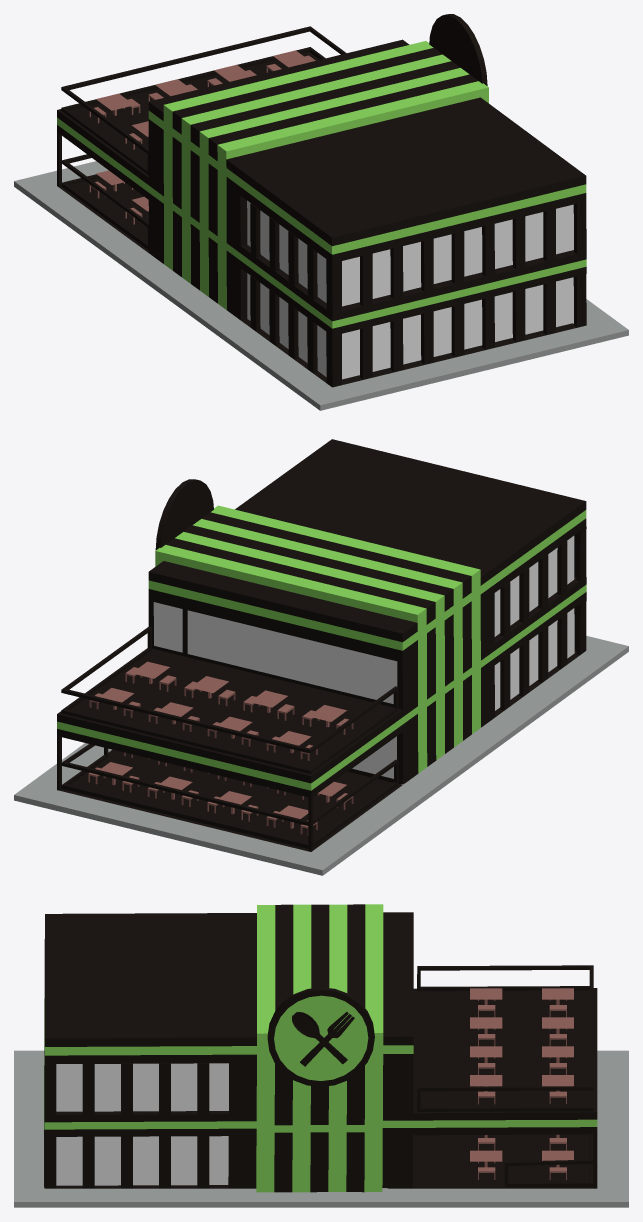
The model's file is resto 1.fbx.
3 views of the same model, one above another, from view 1: azimuth 30°, elevation 25°; view 2: azimuth 150°, elevation 25°; view 3: azimuth 270°, elevation 25° (orthographic).
Parts seen in each view (by area): view 1: Cube.107; view 2: Cube.107; view 3: Cube.107.
Part boxes in pixels (box(x1,y1,x2,y2)): Cube.107: box(14, 14, 628, 410); Cube.107: box(14, 439, 628, 875); Cube.107: box(14, 904, 628, 1207).
Bounding box in the file's own units: 58.25 × 37.79 × 100.
